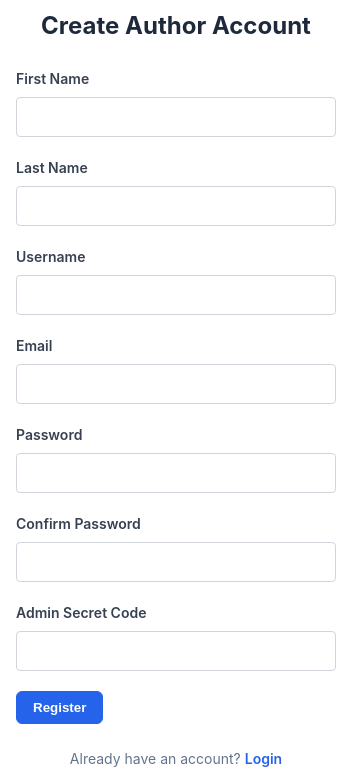
RegisterPage Integration › displays validation errors passed back from the action after submission
What coordinates should you click on to do the following:
click the button "Register"
I would click on:
 (60, 708)
Its box is x1=16 y1=691 x2=103 y2=724.
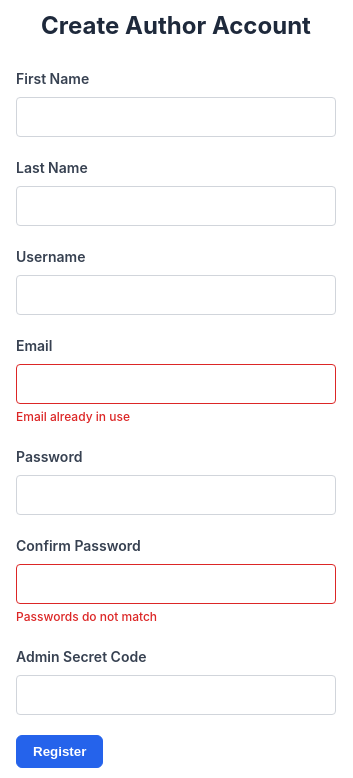
Expected: the button "Register" is enabled, x1=16 y1=735 x2=103 y2=768
Now the text "Passwords do not match" is shown, box x1=16 y1=608 x2=157 y2=626
Now the text "Email already in use" is shown, box x1=16 y1=408 x2=130 y2=426
